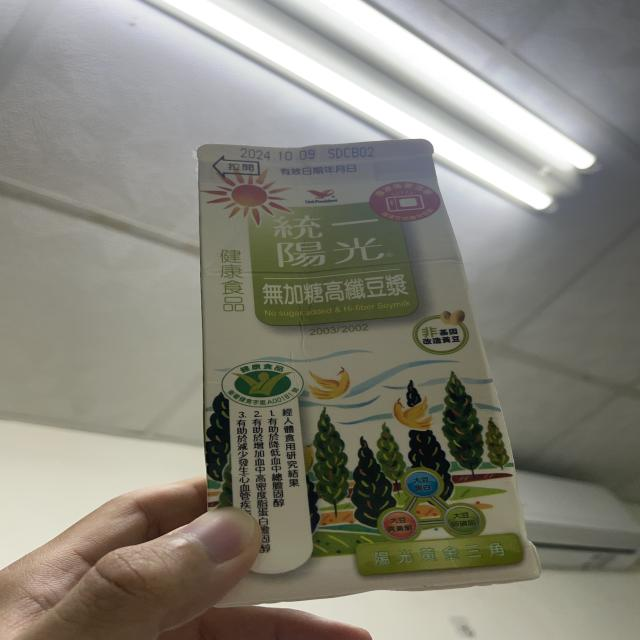TongYi_UnsweetenedHighFiberSoyMilk: (184, 131, 548, 597)
